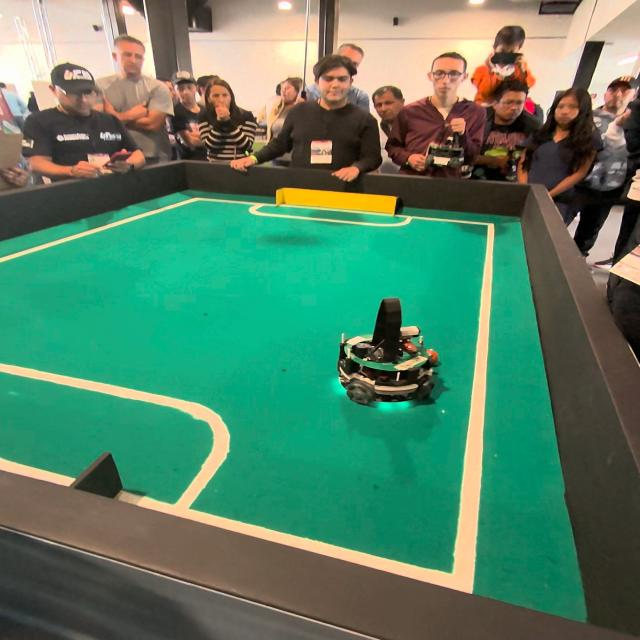Robot: (333, 295, 439, 413)
pelota: (424, 344, 450, 372)
